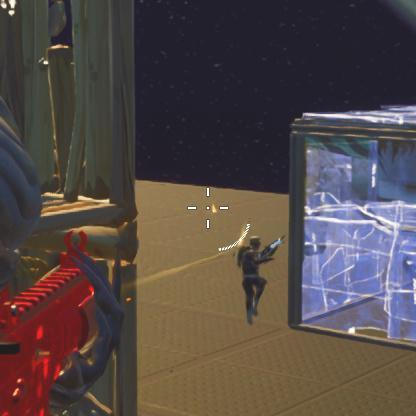person: (240, 236, 275, 324)
